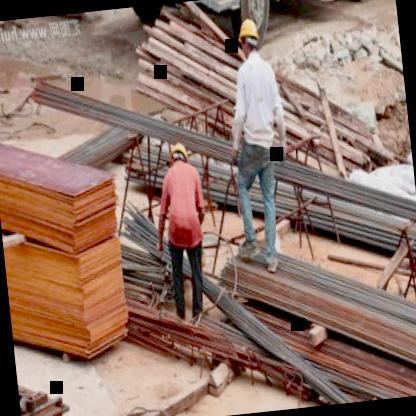helmet: (237, 15, 262, 58), (166, 140, 190, 176)
